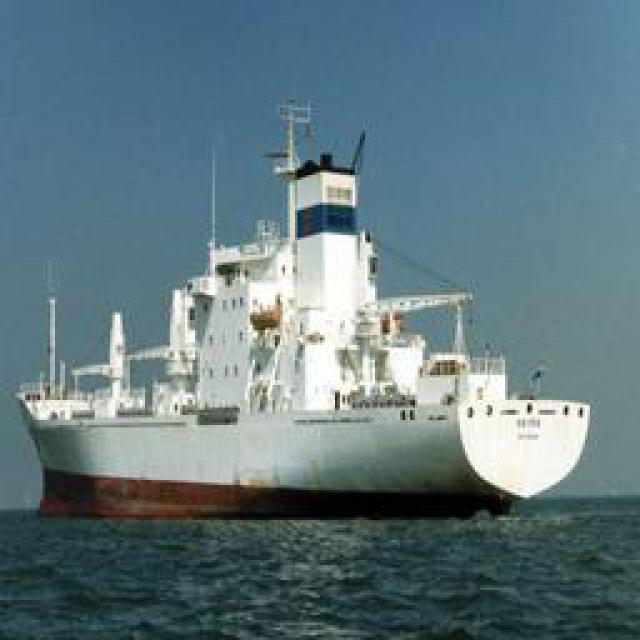Ship: (19, 96, 594, 519)
